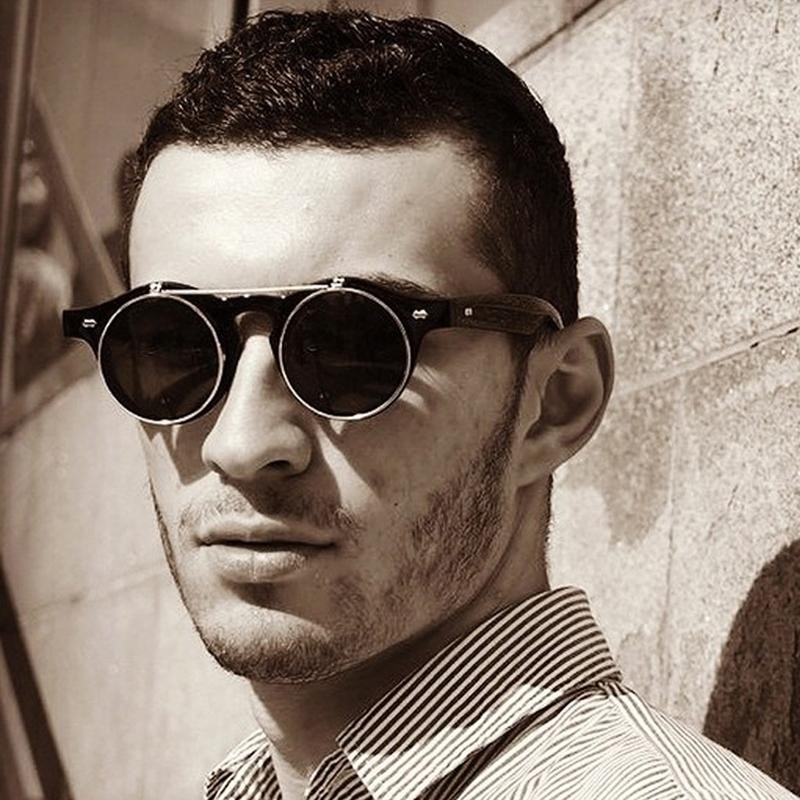face_no_mask: (124, 125, 540, 661)
